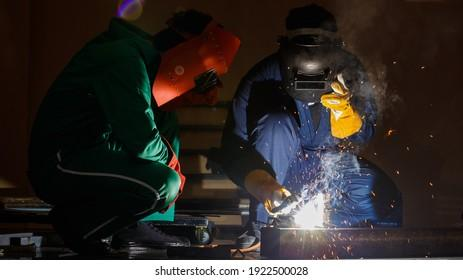gloves: (320, 73, 363, 139), (244, 168, 291, 215)
